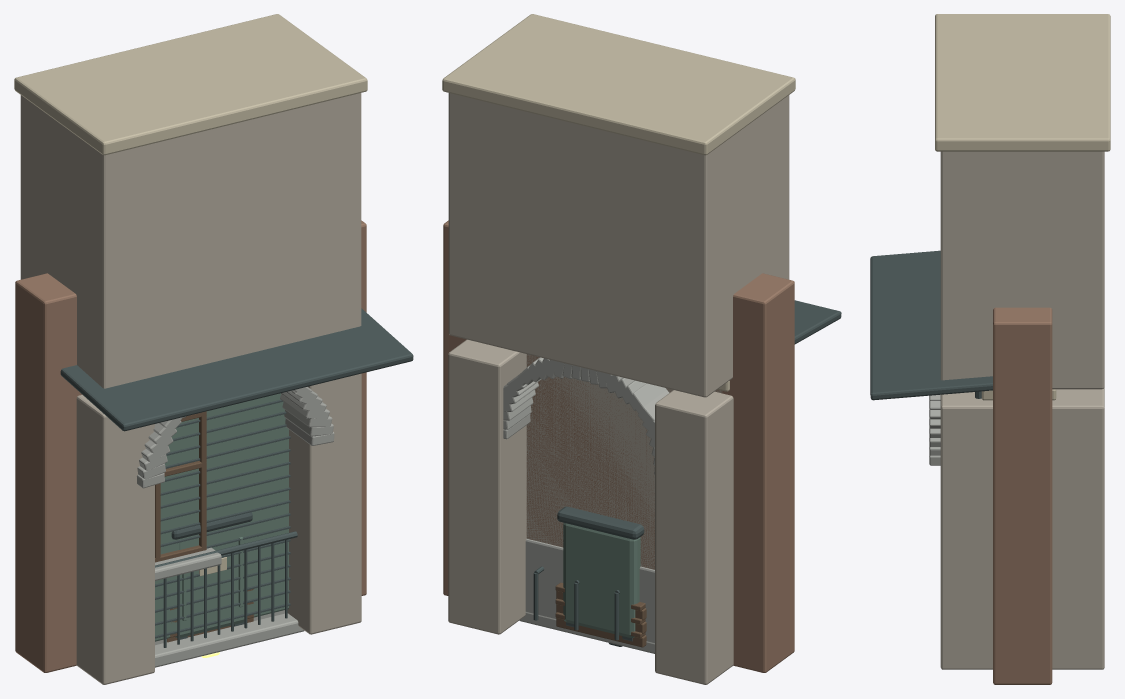
The model's file is kallio-kit-v01.glb.
3 renders of one model, left to right at view 1: azimuth 30°, elevation 25°; view 2: azimuth 150°, elevation 25°; view 3: azimuth 270°, elevation 25°, orthographic. The views are drawn at different scales.
Parts seen in each view (by area): view 1: archway_plaster, archway_cream, service_bay_brick, service_bay_iron, service_bay_green, archway_stone, container_green, balcony_iron, balcony_stone, facade_bay_wood, facade_bay_stone, container_iron; view 2: archway_plaster, service_bay_brick, archway_cream, facade_bay_plaster, container_green, archway_stone, facade_bay_stone, container_iron, pallets_wood, service_bay_iron, balcony_stone, bike_rack_iron; view 3: archway_plaster, archway_cream, service_bay_brick, service_bay_iron, archway_stone.
Part boxes in pixels (<box>): archway_plaster: <box>20,93,361,684</box>; archway_cream: <box>14,14,367,155</box>; service_bay_brick: <box>15,220,366,672</box>; service_bay_iron: <box>60,308,413,638</box>; service_bay_green: <box>155,393,288,641</box>; archway_stone: <box>137,387,334,488</box>; container_green: <box>175,526,244,637</box>; balcony_iron: <box>155,531,297,647</box>; balcony_stone: <box>155,613,304,667</box>; facade_bay_wood: <box>155,411,206,562</box>; facade_bay_stone: <box>155,547,284,645</box>; container_iron: <box>171,512,252,639</box>; archway_plaster: <box>448,93,789,684</box>; service_bay_brick: <box>443,220,794,672</box>; archway_cream: <box>442,14,795,155</box>; facade_bay_plaster: <box>526,354,722,569</box>; container_green: <box>563,523,640,637</box>; archway_stone: <box>503,357,669,474</box>; facade_bay_stone: <box>525,539,654,642</box>; container_iron: <box>557,506,644,641</box>; pallets_wood: <box>555,582,646,647</box>; service_bay_iron: <box>794,300,841,344</box>; balcony_stone: <box>519,612,654,653</box>; bike_rack_iron: <box>533,566,619,640</box>; archway_plaster: <box>940,151,1104,669</box>; archway_cream: <box>935,14,1110,151</box>; service_bay_brick: <box>993,307,1052,684</box>; service_bay_iron: <box>870,250,992,400</box>; archway_stone: <box>929,394,940,465</box>.
Size of the model in its own units: 4 by 6.69 by 2.64.
